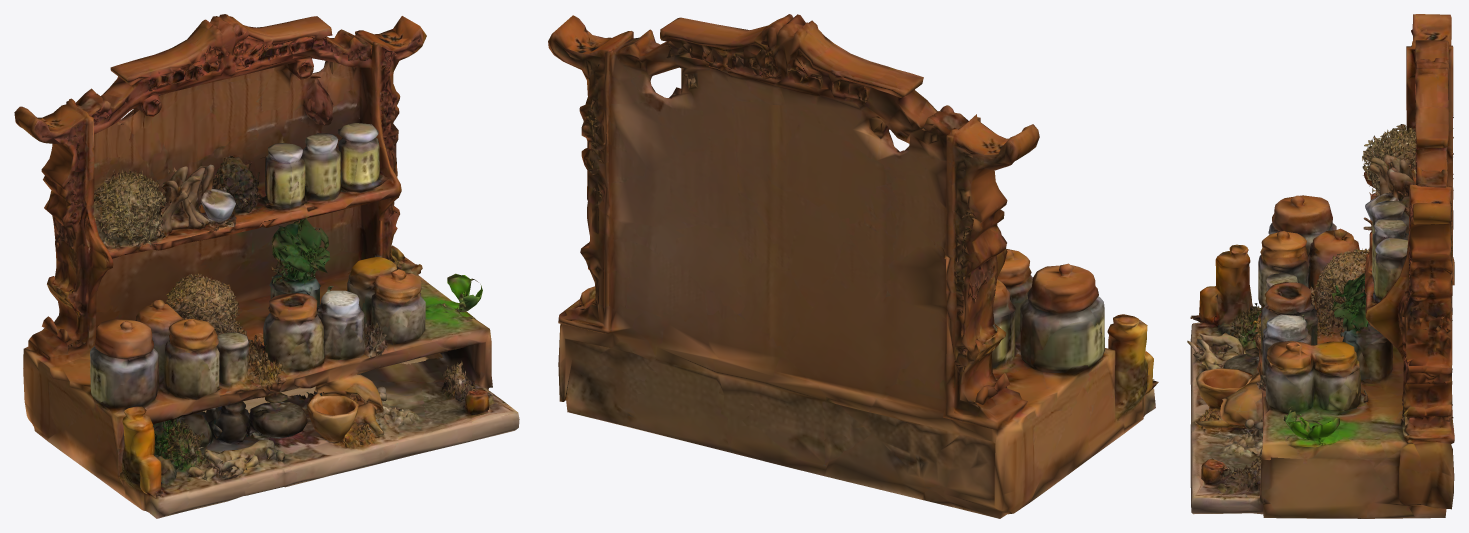
The model's file is bq_apothecary.glb.
3 views of the same model, side by side, from view 1: azimuth 30°, elevation 25°; view 2: azimuth 150°, elevation 25°; view 3: azimuth 270°, elevation 25° (orthographic). The views are drawn at different scales.
Size of the model in its own units: 2 by 1.78 by 1.17.
Materials: 1 (1 with a texture image).
